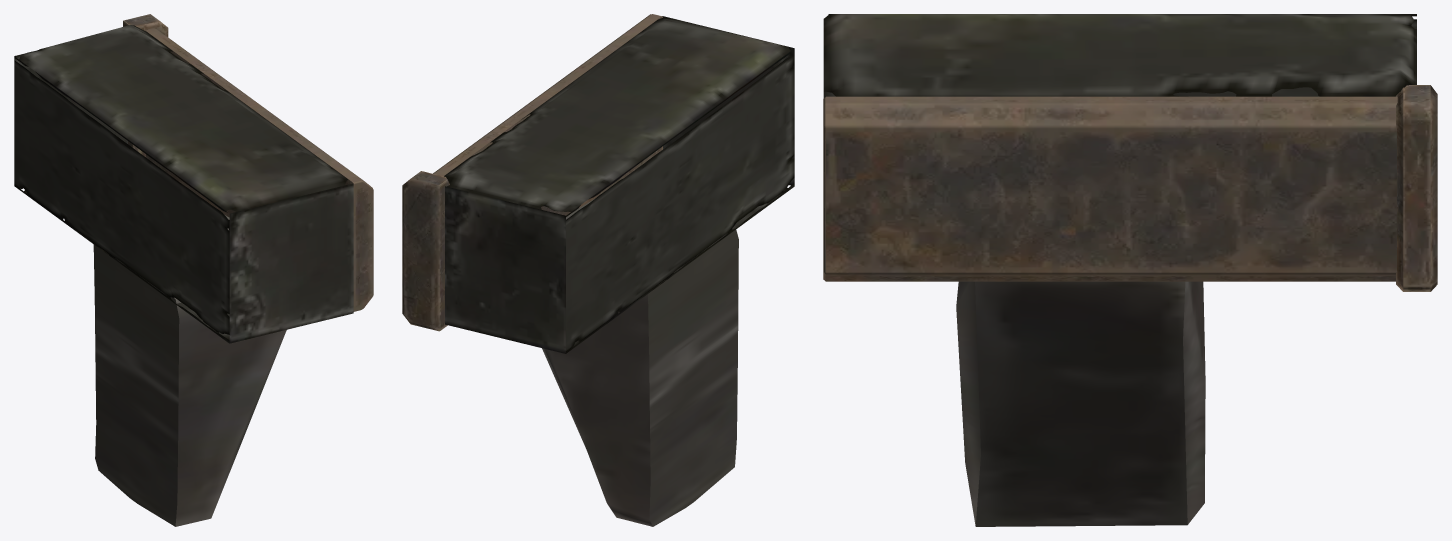
3 views of the same model, side by side, from view 1: azimuth 30°, elevation 25°; view 2: azimuth 150°, elevation 25°; view 3: azimuth 270°, elevation 25° (orthographic). The views are drawn at different scales.
Visible parts, largest first — view 1: SM_Dowdun_Wall_Trim_Corner_01_LOD0; view 2: SM_Dowdun_Wall_Trim_Corner_01_LOD0; view 3: SM_Dowdun_Wall_Trim_Corner_01_LOD0.
Boxes of the visible parts, x1,y1,x2,y2 form: SM_Dowdun_Wall_Trim_Corner_01_LOD0: (14, 14, 373, 526); SM_Dowdun_Wall_Trim_Corner_01_LOD0: (402, 14, 794, 526); SM_Dowdun_Wall_Trim_Corner_01_LOD0: (823, 14, 1437, 526).
Size of the model in its own units: 0.5995 by 1.41 by 1.55.
3 materials, 3 textured.
